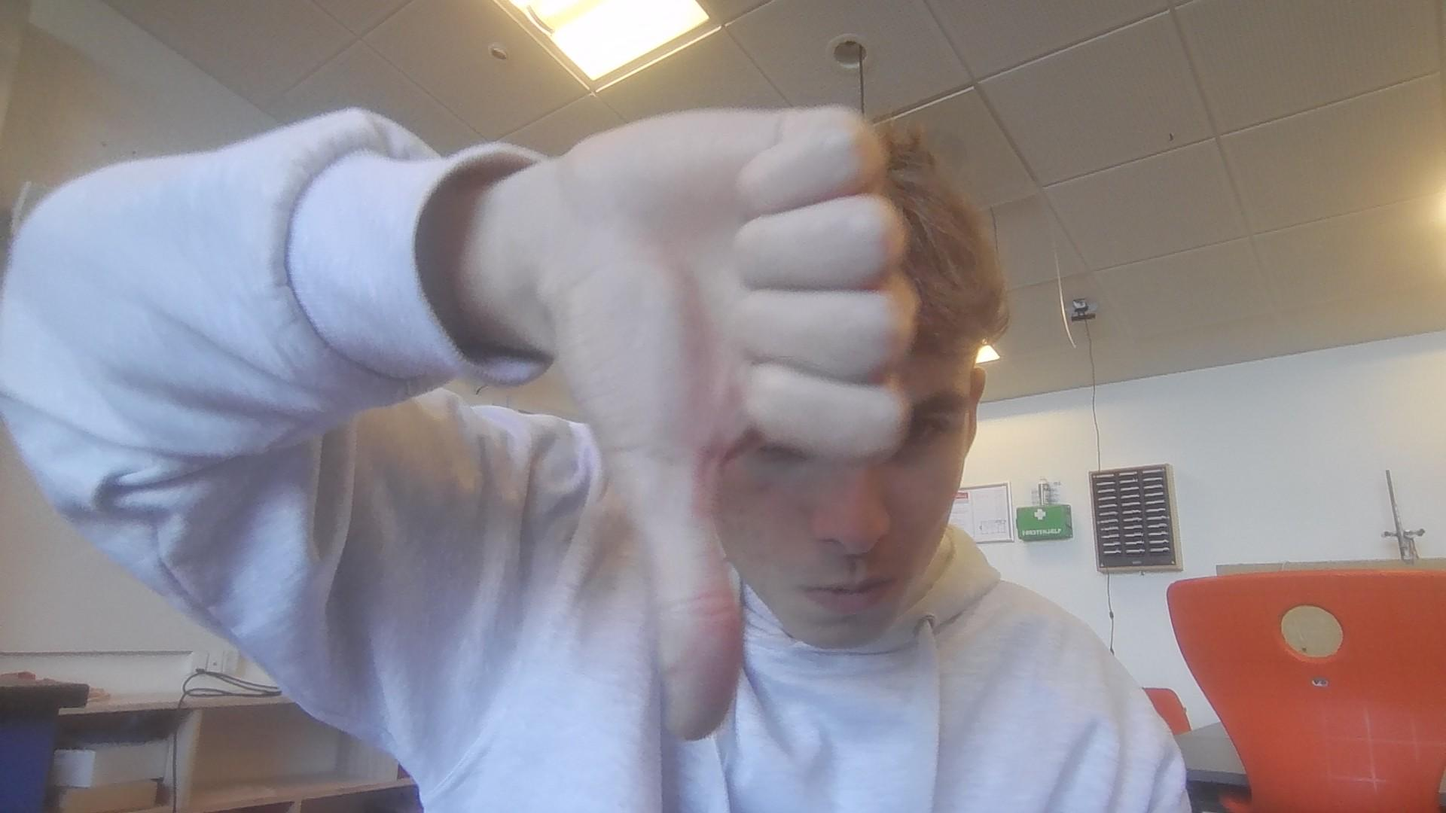thumbs down: (532, 102, 921, 773)
